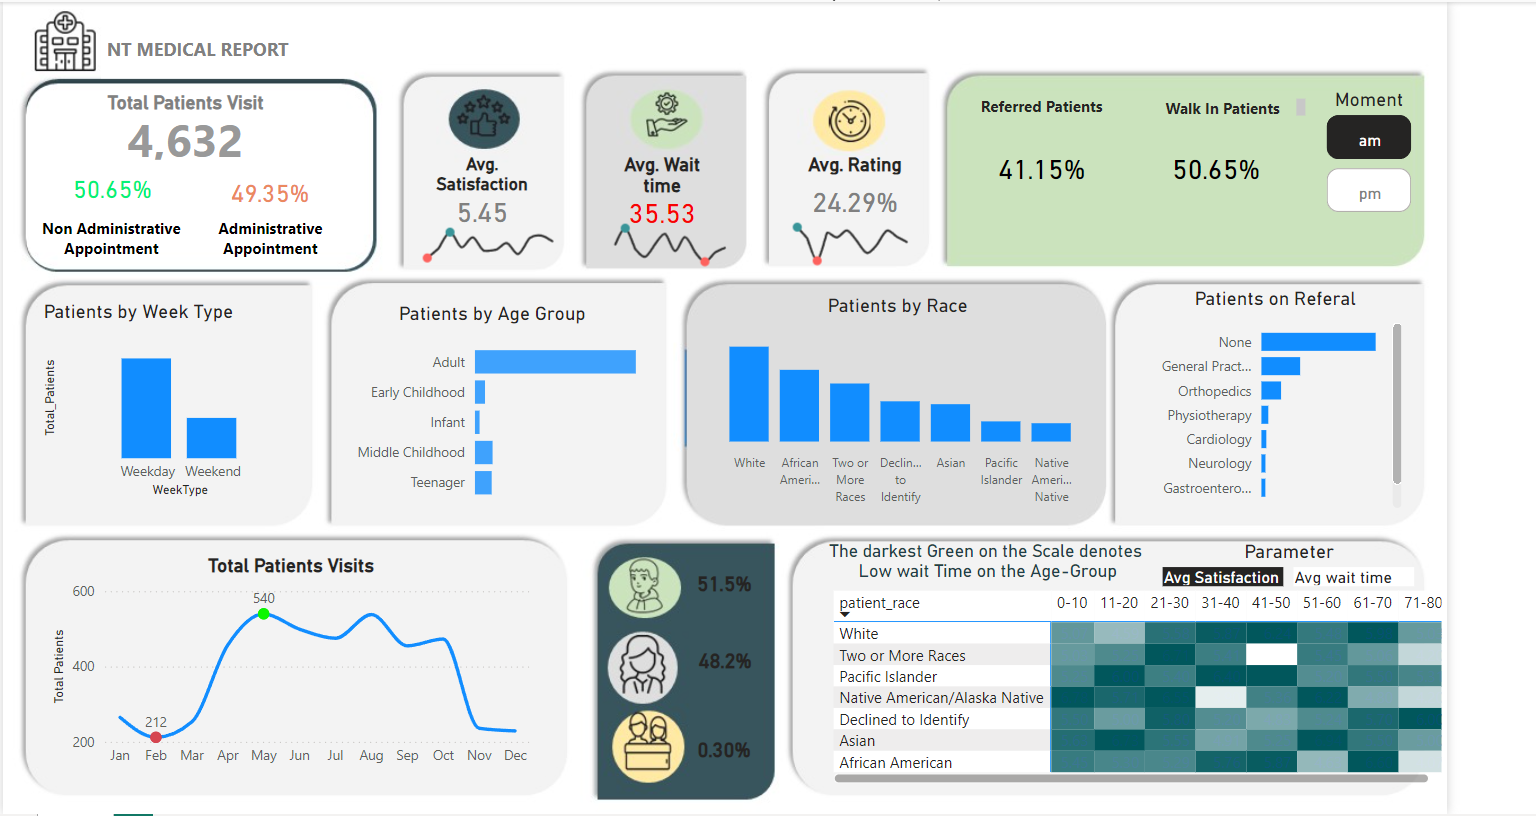

The dashboard page shown, as its layout file describes it:
{"tool":"powerbi","page":{"name":"Page 1","canvas":[1280,720],"ordinal":0},"visuals":[{"type":"card","title":"Total Patients Visit","fields":{"Values":["Calculation.Total_Patients"]},"box":[38.8,79.3,245.7,66.4],"z":0},{"type":"card","fields":{"Values":["Calculation.%Non Administrative Measure"]},"box":[45.7,142.4,101.2,45.7],"z":1000},{"type":"card","fields":{"Values":["Calculation.% Administrative Schedule"]},"box":[189,146,95.8,45.7],"z":2000},{"type":"card","title":"Avg. Satisfaction ","fields":{"Values":["Calculation.Avg Satisfaction Score"]},"box":[364.7,133.6,120.7,67.2],"z":3000},{"type":"pivotTable","fields":{"Values":["Calculation.Avg Satisfaction Score"],"Rows":["patient Dataset.patient_race"],"Columns":["patient Dataset.Age interval"]},"box":[731.5,516.9,548.9,180.9],"z":4000},{"type":"barChart","title":"Patients by Age Group","fields":{"Category":["patient Dataset.Age group","Parameter.Parameter"],"Y":["Calculation.Total_Patients"]},"box":[301.7,266.4,264.7,187.1],"z":5000},{"type":"lineChart","title":"Total Patients Visits ","fields":{"Category":["Date.Month"],"Y":["Calculation.Total_Patients","Calculation.Values Max Point(Month)"]},"box":[38.8,489.7,432.8,196.6],"z":6000},{"type":"clusteredBarChart","title":"Patients on Referal","fields":{"Category":["patient Dataset.department_referral"],"Y":["Calculation.Total_Patients"]},"box":[1011.2,252.6,234.5,200.9],"z":7000},{"type":"card","fields":{"Values":["Calculation.HitMap Caption"]},"box":[706,469,334.5,54.3],"z":8000},{"type":"advancedSlicerVisual","fields":{"Values":["patient Dataset.Moment"]},"box":[1169,75.9,85.3,115.5],"z":9000},{"type":"advancedSlicerVisual","fields":{"Values":["Parameter.Parameter"]},"box":[1023.3,476.7,234.5,46.6],"z":10000},{"type":"textbox","box":[162.1,187.2,149.6,62.7],"z":11000},{"type":"textbox","box":[21.5,187.2,149.6,62.7],"z":12000},{"type":"card","fields":{"Values":["Calculation.% Reffered_Patients"]},"box":[852.6,122.4,136.2,50.9],"z":13000},{"type":"card","fields":{"Values":["Calculation.%Non Administrative Measure"]},"box":[1011,125.4,129,45.7],"z":14000},{"type":"textbox","box":[845.7,79.3,150,31],"z":15000},{"type":"textbox","box":[1011.2,81,149.1,31.9],"z":16000},{"type":"clusteredColumnChart","title":"Patients by Week Type","fields":{"Y":["Calculation.Total_Patients"],"Category":["Date.WeekType"]},"box":[31,263.8,235.3,179.3],"z":17000},{"type":"card","fields":{"Values":["Calculation.% Male Visit"]},"box":[594,494,90.5,44.8],"z":18000},{"type":"card","fields":{"Values":["Calculation.% Female Visit"]},"box":[594.8,562.1,90.5,44.8],"z":19000},{"type":"card","fields":{"Values":["Calculation.% Other Visit"]},"box":[594,641.4,90.5,44.8],"z":20000},{"type":"card","title":"Avg. Wait time ","fields":{"Values":["Calculation.Avg wait time"]},"box":[528.4,133.6,112.1,67.2],"z":21000},{"type":"card","title":"Avg. Rating ","fields":{"Values":["Calculation.Avg. rating"]},"box":[694.8,133.6,120.7,67.2],"z":22000},{"type":"clusteredColumnChart","title":"Patients by Race","fields":{"Category":["patient Dataset.patient_race"],"Y":["Calculation.Total_Patients"]},"box":[616.4,258.6,354.3,194.8],"z":23000},{"type":"PBI_CV_25997FEB_F466_44FA_B562_AC4063283C4C","fields":{"measure":["Calculation.Avg Satisfaction Score"],"axis":["Date.Month"]},"box":[358.6,187.1,150.9,50.9],"z":24000},{"type":"PBI_CV_25997FEB_F466_44FA_B562_AC4063283C4C","fields":{"axis":["Date.Month"],"measure":["Calculation.Avg wait time"]},"box":[525,183.6,137.1,57.8],"z":25000},{"type":"PBI_CV_25997FEB_F466_44FA_B562_AC4063283C4C","fields":{"measure":["Calculation.Avg. rating"],"axis":["Date.Month"]},"box":[686.2,182.8,137.1,57.8],"z":26000},{"type":"textbox","box":[87.3,25.5,224.5,41.8],"z":27000}]}

Visuals, with their boxes on the page's 1280x720 design canvas (x1, y1, x2, y2). These are canvas units, not pixel positions in the 1536x816 screenshot, which may show the page scaled, cropped or inside an application window:
"Total Patients Visit" card: [39, 79, 284, 146]
card - Calculation.%Non Administrative Measure: [46, 142, 147, 188]
card - Calculation.% Administrative Schedule: [189, 146, 285, 192]
"Avg. Satisfaction " card: [365, 134, 485, 201]
pivotTable - Calculation.Avg Satisfaction Score x patient Dataset.patient_race: [732, 517, 1280, 698]
"Patients by Age Group" barChart: [302, 266, 566, 454]
"Total Patients Visits " lineChart: [39, 490, 472, 686]
"Patients on Referal" clusteredBarChart: [1011, 253, 1246, 454]
card - Calculation.HitMap Caption: [706, 469, 1040, 523]
advancedSlicerVisual - patient Dataset.Moment: [1169, 76, 1254, 191]
advancedSlicerVisual - Parameter.Parameter: [1023, 477, 1258, 523]
textbox: [162, 187, 312, 250]
textbox: [22, 187, 171, 250]
card - Calculation.% Reffered_Patients: [853, 122, 989, 173]
card - Calculation.%Non Administrative Measure: [1011, 125, 1140, 171]
textbox: [846, 79, 996, 110]
textbox: [1011, 81, 1160, 113]
"Patients by Week Type" clusteredColumnChart: [31, 264, 266, 443]
card - Calculation.% Male Visit: [594, 494, 684, 539]
card - Calculation.% Female Visit: [595, 562, 685, 607]
card - Calculation.% Other Visit: [594, 641, 684, 686]
"Avg. Wait time " card: [528, 134, 640, 201]
"Avg. Rating " card: [695, 134, 816, 201]
"Patients by Race" clusteredColumnChart: [616, 259, 971, 453]
PBI_CV_25997FEB_F466_44FA_B562_AC4063283C4C - Calculation.Avg Satisfaction Score x Date.Month: [359, 187, 510, 238]
PBI_CV_25997FEB_F466_44FA_B562_AC4063283C4C - Date.Month x Calculation.Avg wait time: [525, 184, 662, 241]
PBI_CV_25997FEB_F466_44FA_B562_AC4063283C4C - Calculation.Avg. rating x Date.Month: [686, 183, 823, 241]
textbox: [87, 26, 312, 67]
